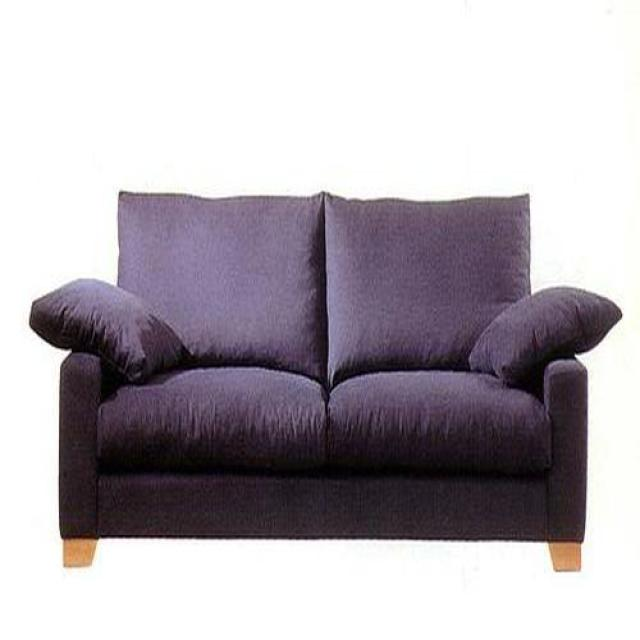sofa: (28, 192, 625, 544)
